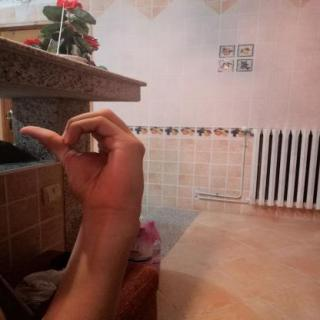WAW: (7, 98, 160, 230)
